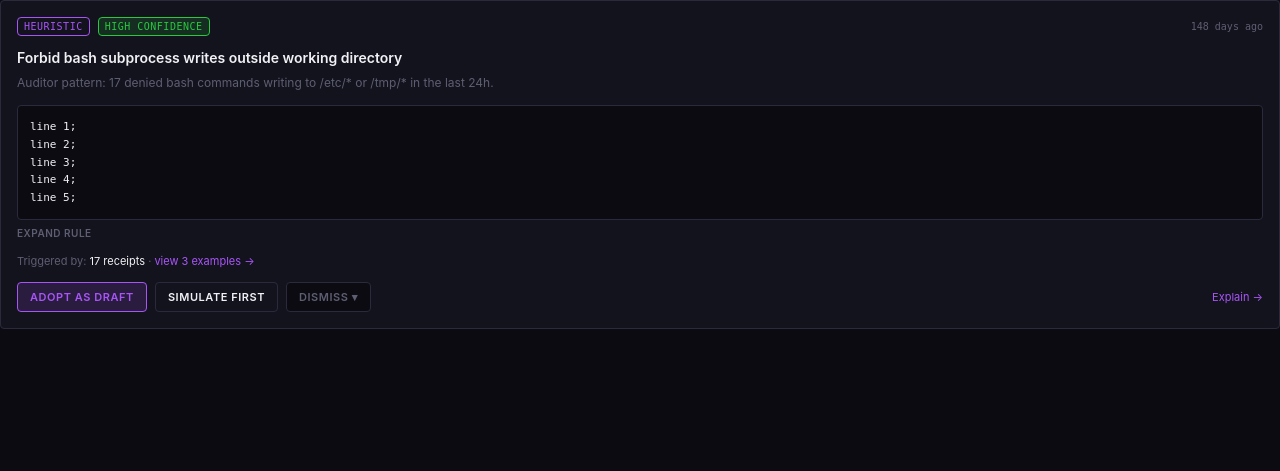
Test: SuggestionCard Cedar preview › collapses Cedar source by default and expands on click
Step 1. Click the button with test id "suggestion-toggle-rule" → click(54, 234), box x1=17 y1=226 x2=92 y2=241
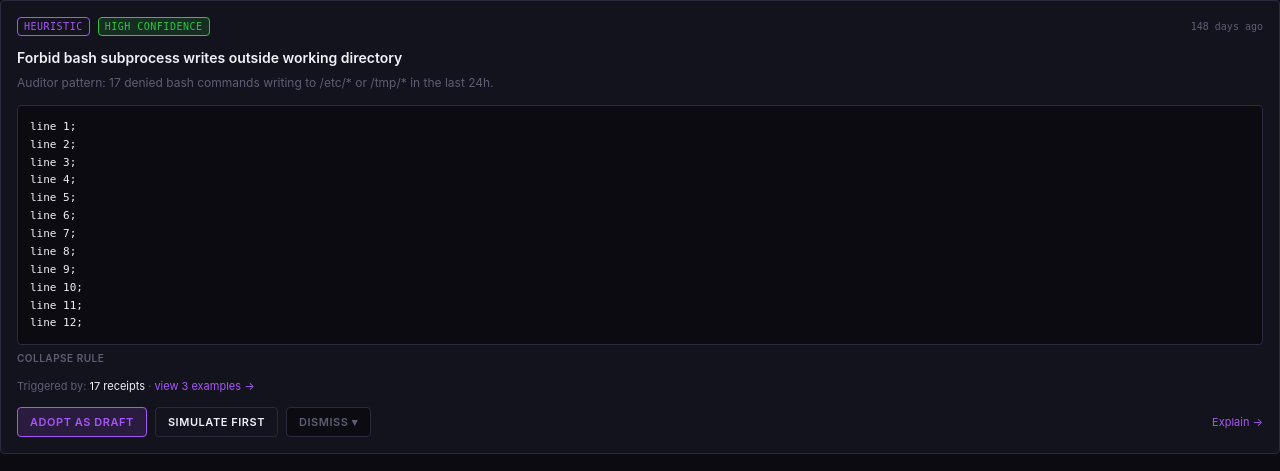
expect the text with test id "suggestion-proposed-rule" shows "line 12;": met, box x1=30 y1=120 x2=83 y2=329
